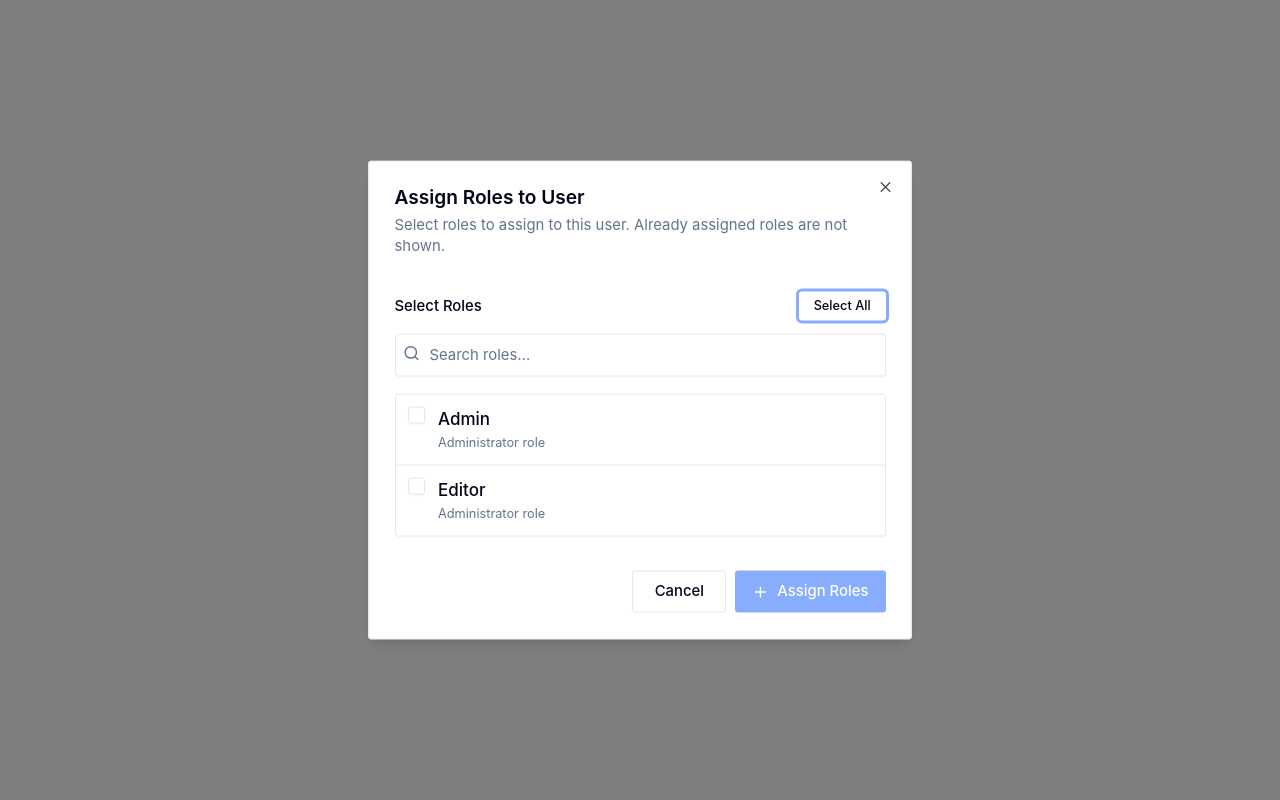
Scenario: AssignUserRolesDialog › toggles select-all and deselect-all
Click the button "Select All".
click(842, 306)  # box [799,291,886,321]
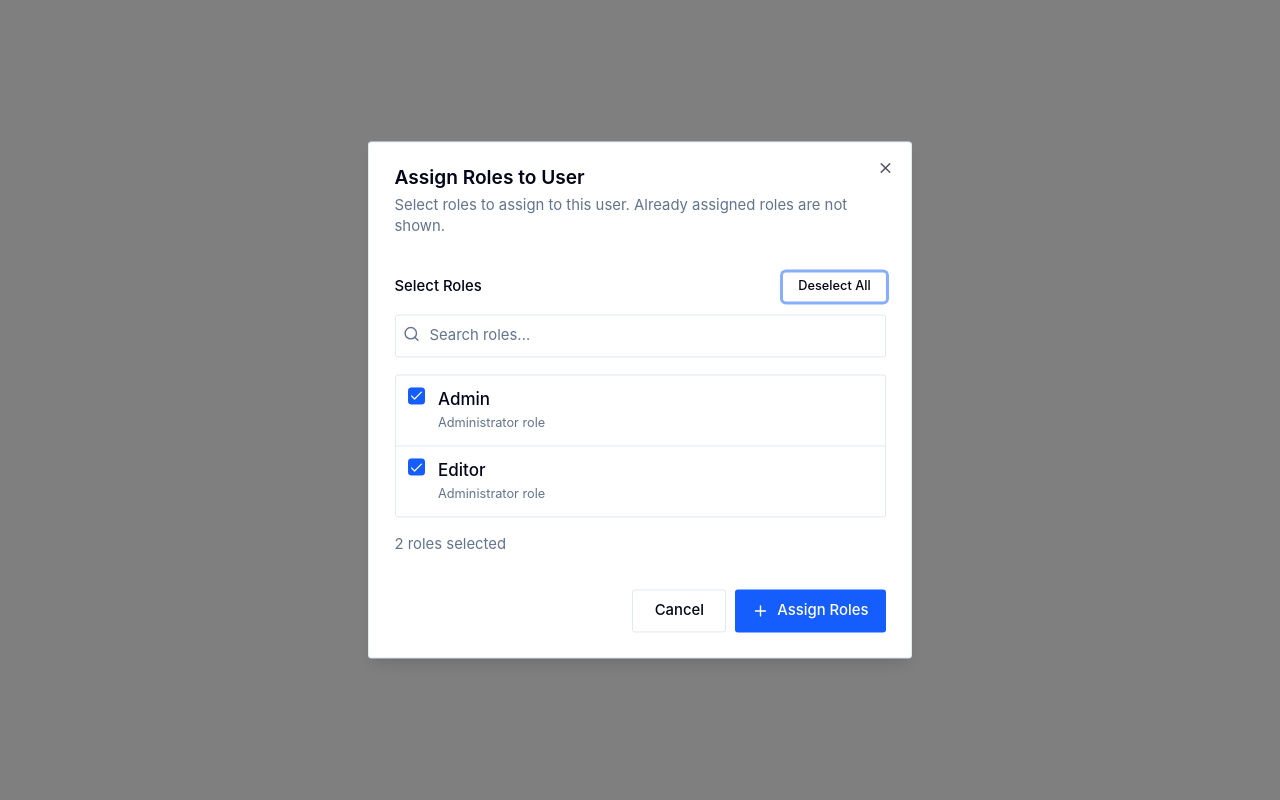
Expected: the text "2 roles selected" is shown, [394,535,506,553]
Click the button "Deselect All".
click(834, 287)  # box [783,272,886,302]
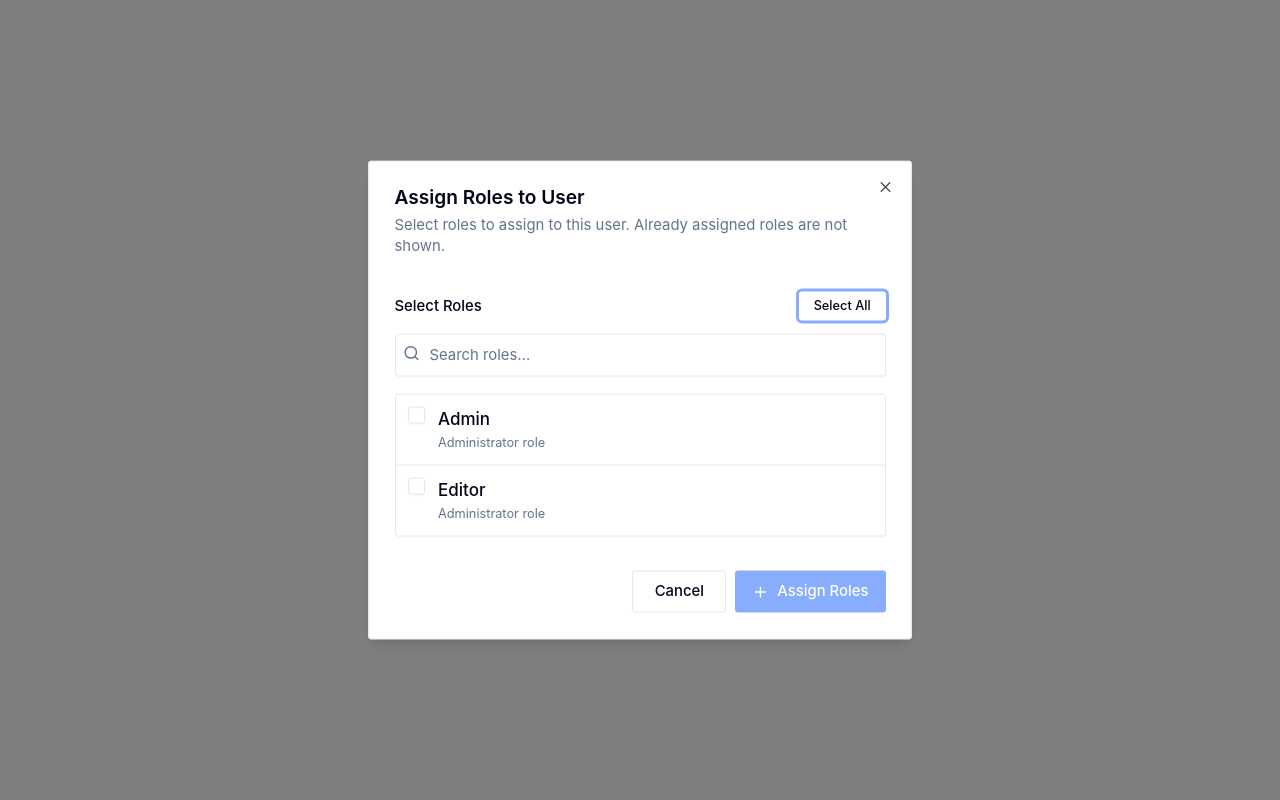
Expected: the text "roles selected" is gone
